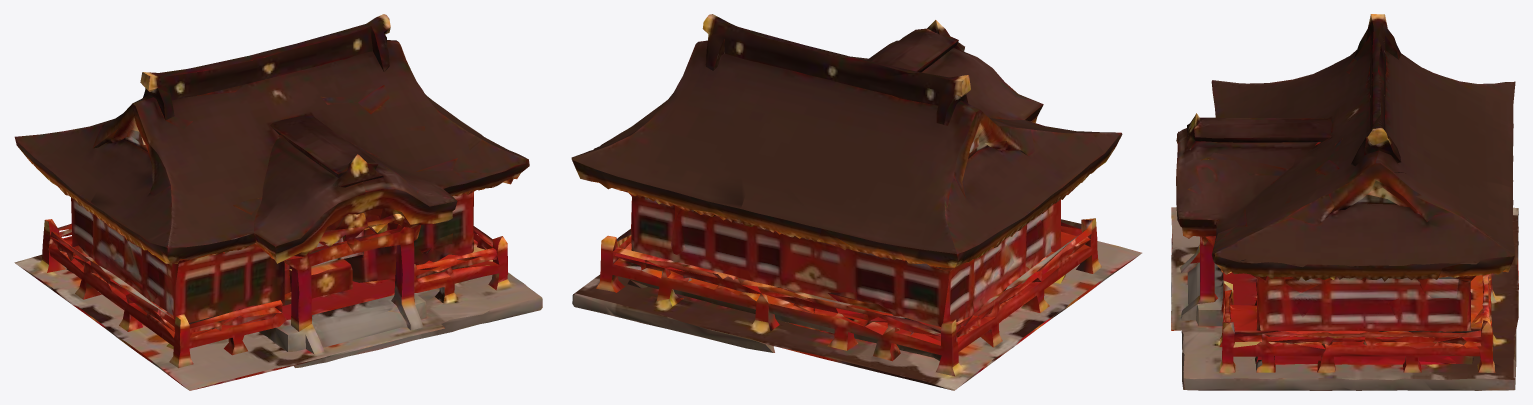
Rendered from dazaifu-tenmangu.glb.
3 views of the same model, side by side, from view 1: azimuth 30°, elevation 25°; view 2: azimuth 150°, elevation 25°; view 3: azimuth 270°, elevation 25° (orthographic). The views are drawn at different scales.
Visible parts, largest first — view 1: logan-textured.obj; view 2: logan-textured.obj; view 3: logan-textured.obj.
Boxes of the visible parts, <box> form: logan-textured.obj: <box>14,14,542,390</box>; logan-textured.obj: <box>571,14,1141,390</box>; logan-textured.obj: <box>1171,14,1518,390</box>.
Size of the model in its own units: 1 by 0.6204 by 0.8357.
Materials: 1 (1 with a texture image).
